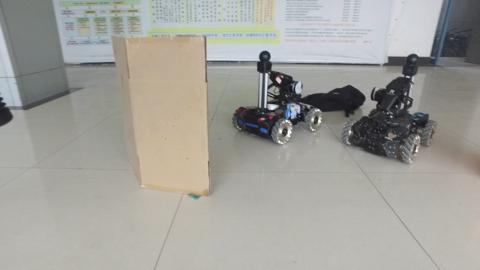box: (109, 35, 216, 195)
chariot: (341, 52, 436, 165), (233, 52, 322, 143)
